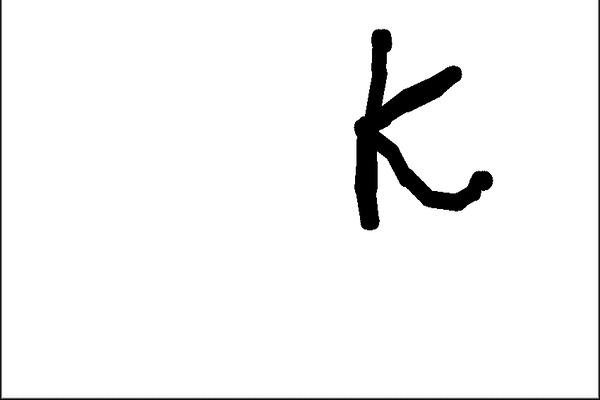K: (341, 23, 498, 233)
